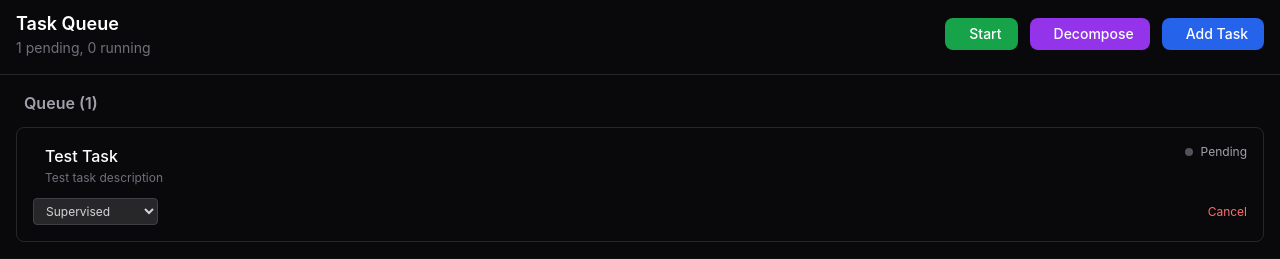
Test: TaskQueuePanel › Task Actions › should show Pause button when queue is running
# Start the queue
Click the button "Start".
click(981, 34)  # box [945, 18, 1018, 50]
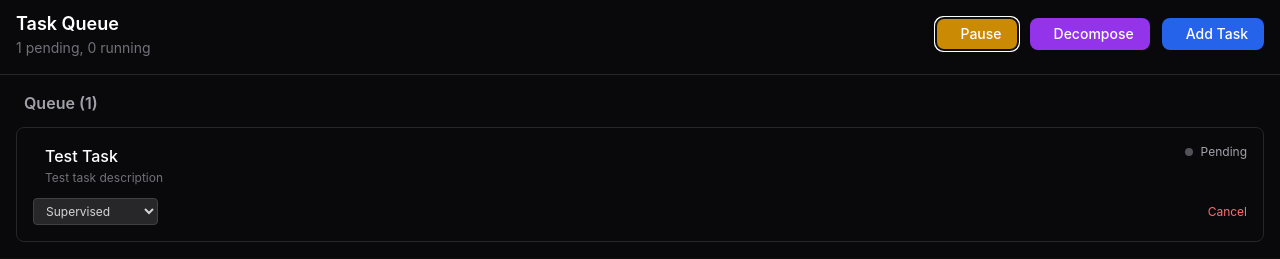
Result: the button "Pause" is shown at [936, 18, 1018, 50]
